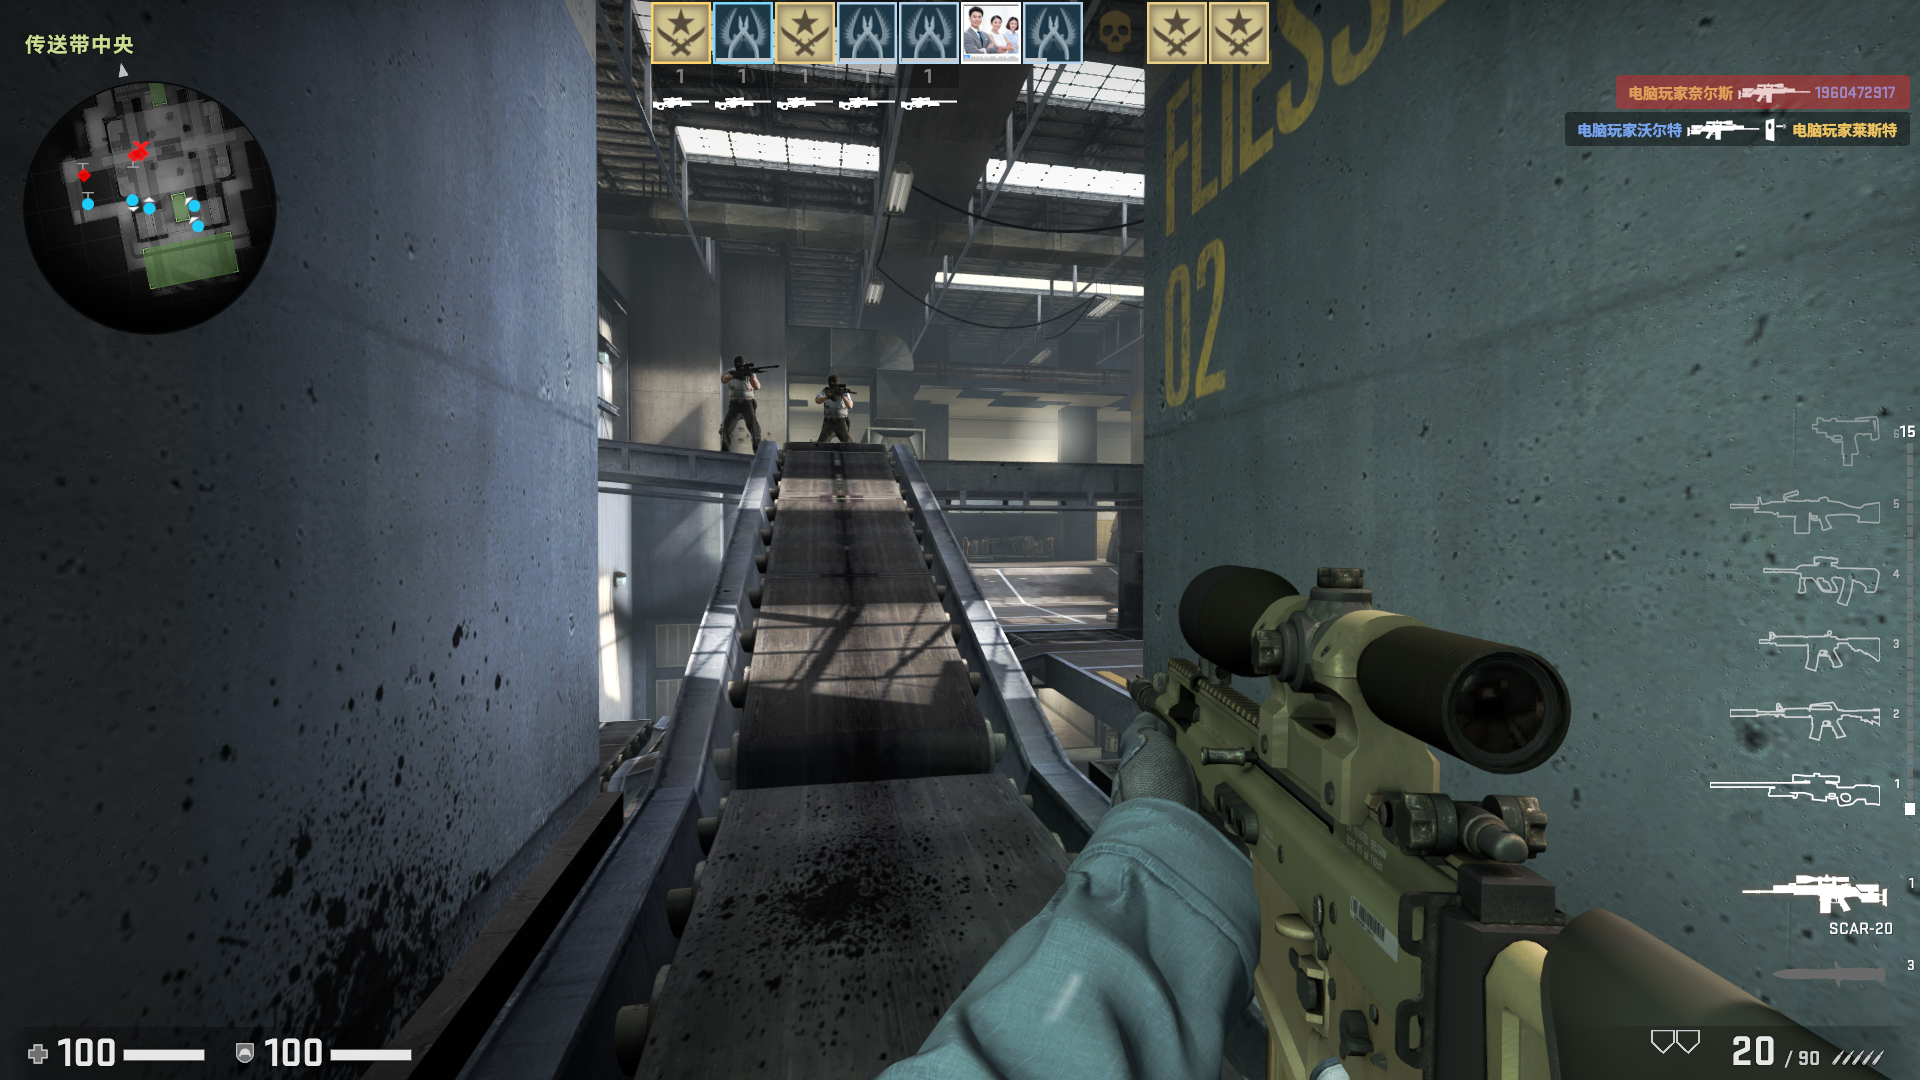person: (720, 359, 765, 456), (817, 372, 860, 444)
